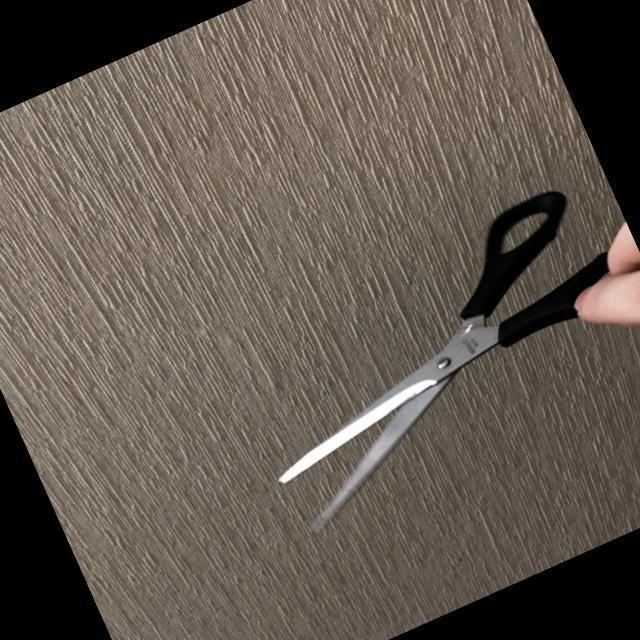scissors: (207, 168, 640, 499)
